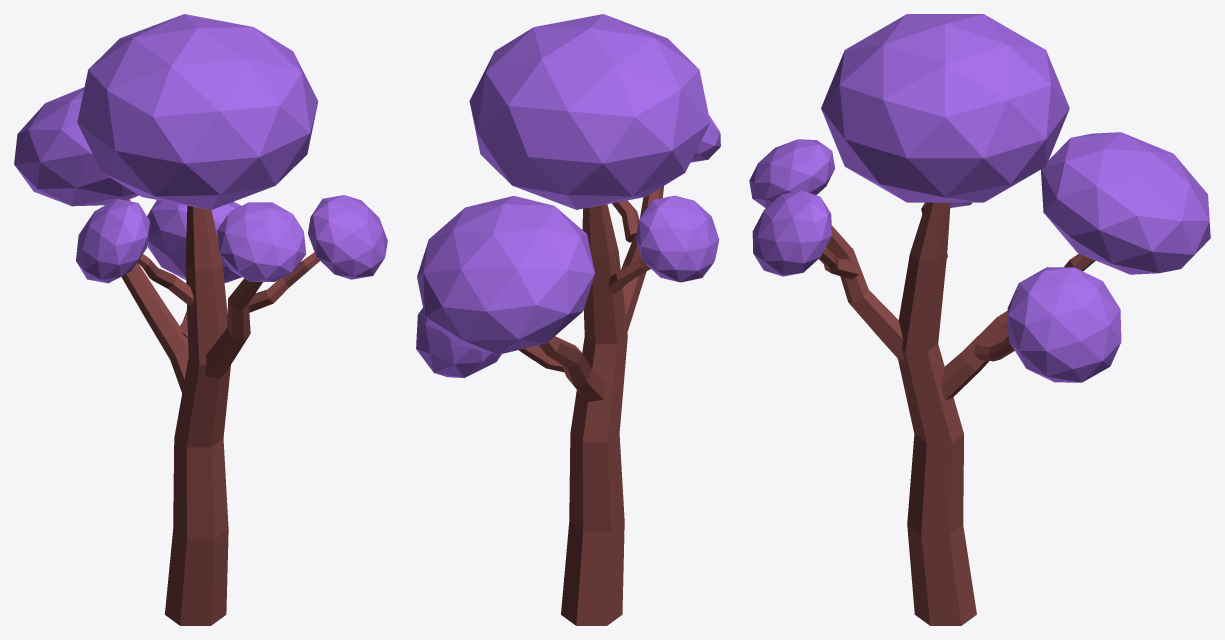
The model's file is Tree_2_Leaves.glb.
3 views of the same model, side by side, from view 1: azimuth 30°, elevation 25°; view 2: azimuth 150°, elevation 25°; view 3: azimuth 270°, elevation 25° (orthographic).
Parts seen in each view (by area): view 1: Icosphere.003, Cylinder; view 2: Icosphere.003, Cylinder; view 3: Icosphere.003, Cylinder.
Boxes of the visible parts, x1,y1,x2,y2 form: Icosphere.003: (14,14,387,283); Cylinder: (121,199,319,625); Icosphere.003: (416,14,720,377); Cylinder: (518,186,663,625); Icosphere.003: (749,14,1210,382); Cylinder: (819,202,1095,625).
Size of the model in its own units: 4.32 by 10.5 by 7.42.
